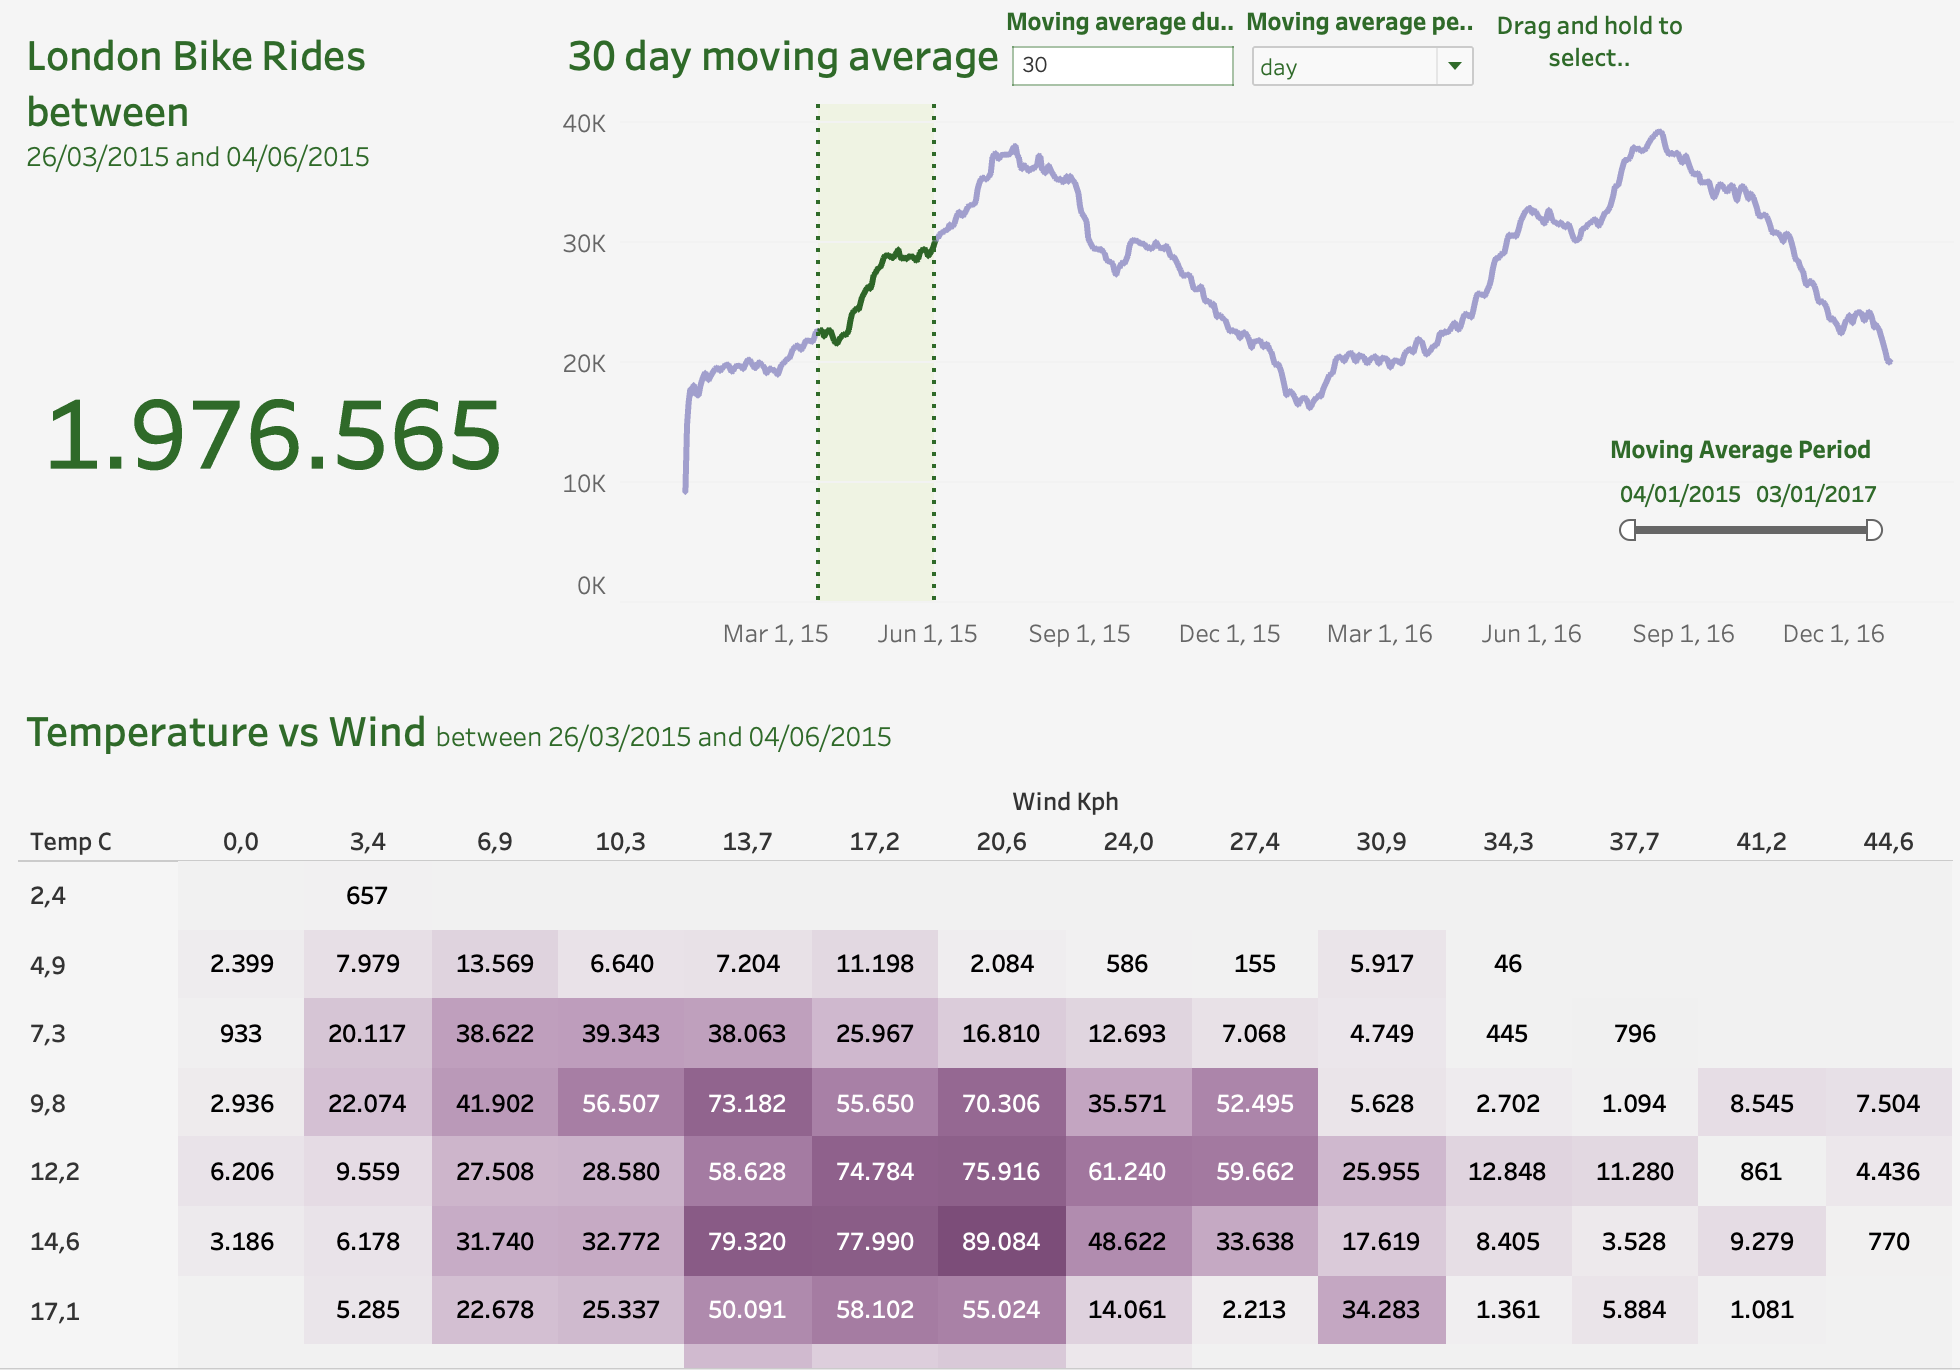

The page's visual inventory and layout, read from the dashboard file:
{"tool":"tableau","page":{"name":"Dashboard 1","canvas":[1366,768],"ordinal":0},"visuals":[{"type":"worksheet","title":"TotalRides","mark":"Automatic","box":[8,8,306,324]},{"type":"worksheet","title":"MovingAverage","mark":"Automatic","rows":["Calculation1"],"cols":["Calculation_1685894377670381568"],"box":[314,8,1044,324]},{"type":"filter","title":"MovingAverage","param":"[federated.1tqslq81c9no5i1cbjzud00dpsbb].[none:Calculation_1685894377670381568:q","box":[1189,8,168,69]},{"type":"parameter","param":"[Parameters].[Parameter 2]","box":[696,9,160,41]},{"type":"parameter","param":"[Parameters].[Parameter 1]","box":[861,9,160,44]},{"type":"text","box":[553,12,137,34]},{"type":"worksheet","title":"Heatmap","mark":"Square","rows":["Real Temp C (bin)"],"cols":["Wind Speed Kph (bin)"],"box":[8,332,1350,428]}]}

Visuals, with their boxes on the page's 1366x768 design canvas (x1, y1, x2, y2). These are canvas units, not pixel positions in the 1960x1370 screenshot, which may show the page scaled, cropped or inside an application window:
"TotalRides" worksheet: pyautogui.locateOnScreen(8, 8, 314, 332)
"MovingAverage" worksheet: pyautogui.locateOnScreen(314, 8, 1358, 332)
"MovingAverage" filter: pyautogui.locateOnScreen(1189, 8, 1357, 77)
parameter: pyautogui.locateOnScreen(696, 9, 856, 50)
parameter: pyautogui.locateOnScreen(861, 9, 1021, 53)
text: pyautogui.locateOnScreen(553, 12, 690, 46)
"Heatmap" worksheet (Square marks): pyautogui.locateOnScreen(8, 332, 1358, 760)
